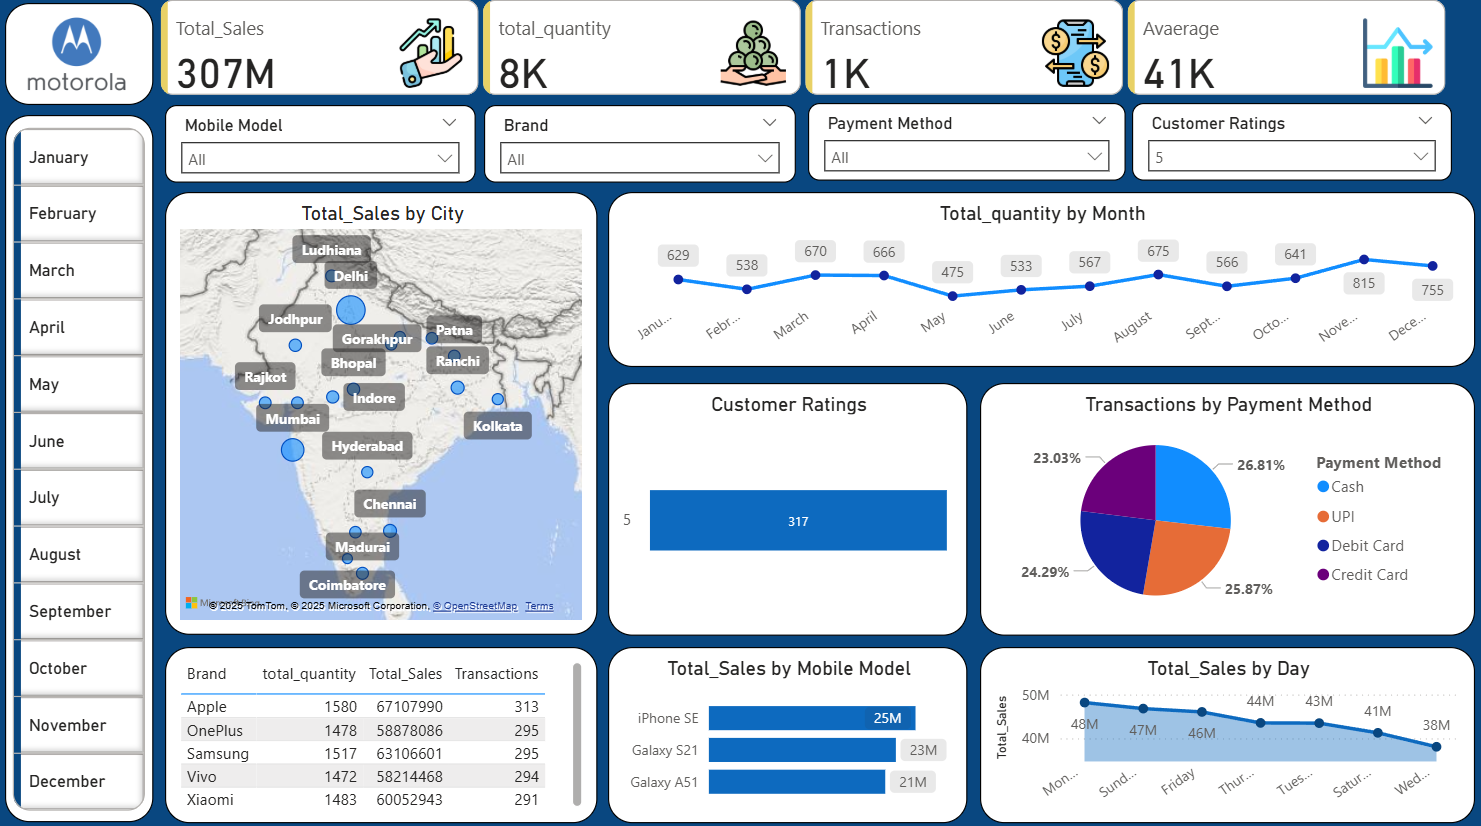

The dashboard page shown, as its layout file describes it:
{"tool":"powerbi","page":{"name":"Page 1","canvas":[1280,720],"ordinal":0},"visuals":[{"type":"shape","box":[4.9,7.8,128.4,154.7],"z":0},{"type":"image","box":[0,7.8,134.6,121.6],"z":1000},{"type":"shape","box":[4.9,171.2,128.4,542.7],"z":2000},{"type":"advancedSlicerVisual","fields":{"Values":["Sheet1.Date .Variation.Date Hierarchy.Month"]},"box":[6.8,179,124.5,535.9],"z":3000},{"type":"cardVisual","fields":{"Data":["Sales_data.Total_Sales","Sales_data.total_quantity","Sales_data.Transactions","Sales_data.Avaerage"]},"box":[134.2,0,1119.5,94.3],"z":4000},{"type":"map","fields":{"Category":["Sales_data.City"],"Size":["Sales_data.Total_Sales"]},"box":[143,171.2,373.5,382.2],"z":5000},{"type":"lineChart","title":"Total_quantity by Month","fields":{"Y":["Sales_data.total_quantity"],"Category":["Sales_data.Date .Variation.Date Hierarchy.Month","Sales_data.Date .Variation.Date Hierarchy.Day"]},"box":[525.2,171.2,748,150.8],"z":6000},{"type":"clusteredBarChart","fields":{"Category":["Sales_data.Mobile Model"],"Y":["Sales_data.Total_Sales"]},"box":[525.2,563.2,310.3,151.7],"z":7000},{"type":"pieChart","fields":{"Category":["Sales_data.Payment Method"],"Y":["Sales_data.Transactions"]},"box":[846.2,335.6,427,217.9],"z":7001},{"type":"funnel","title":"Customer Ratings","fields":{"Category":["Sales_data.Customer Ratings"],"Y":["CountNonNull(Sales_data.Customer Ratings)"]},"box":[525.2,335.6,310.3,217.9],"z":7002},{"type":"areaChart","title":"Total_Sales by Day","fields":{"Category":["Sales_data.Day Name.1"],"Y":["Sales_data.Total_Sales"]},"box":[846.2,563.2,427,151.7],"z":7003},{"type":"tableEx","fields":{"Values":["Sales_data.Brand","Sales_data.total_quantity","Sales_data.Total_Sales","Sales_data.Transactions"]},"box":[143,563.2,373.5,151.7],"z":7004},{"type":"slicer","fields":{"Values":["Sales_data.Mobile Model"]},"box":[143,95.3,268.4,67.1],"z":7005},{"type":"slicer","fields":{"Values":["Sales_data.Brand"]},"box":[418.2,95.3,269.4,67.1],"z":7006},{"type":"slicer","fields":{"Values":["Sales_data.Payment Method"]},"box":[697.4,94.3,274.3,67.1],"z":7007},{"type":"slicer","fields":{"Values":["Sales_data.Customer Ratings"]},"box":[977.5,94.3,276.2,67.1],"z":7008}]}

Visuals, with their boxes in screenshot pixels (x1, y1, x2, y2), scaled from the page's 1280x720 canvas onto the 1481x826 screenshot:
shape: x1=6 y1=9 x2=154 y2=186
image: x1=0 y1=9 x2=156 y2=148
shape: x1=6 y1=196 x2=154 y2=819
advancedSlicerVisual - Sheet1.Date .Variation.Date Hierarchy.Month: x1=8 y1=205 x2=152 y2=820
cardVisual - Sales_data.Total_Sales x Sales_data.total_quantity: x1=155 y1=0 x2=1451 y2=108
map - Sales_data.City x Sales_data.Total_Sales: x1=165 y1=196 x2=598 y2=635
"Total_quantity by Month" lineChart: x1=608 y1=196 x2=1473 y2=369
clusteredBarChart - Sales_data.Mobile Model x Sales_data.Total_Sales: x1=608 y1=646 x2=967 y2=820
pieChart - Sales_data.Payment Method x Sales_data.Transactions: x1=979 y1=385 x2=1473 y2=635
"Customer Ratings" funnel: x1=608 y1=385 x2=967 y2=635
"Total_Sales by Day" areaChart: x1=979 y1=646 x2=1473 y2=820
tableEx - Sales_data.Brand x Sales_data.total_quantity: x1=165 y1=646 x2=598 y2=820
slicer - Sales_data.Mobile Model: x1=165 y1=109 x2=476 y2=186
slicer - Sales_data.Brand: x1=484 y1=109 x2=796 y2=186
slicer - Sales_data.Payment Method: x1=807 y1=108 x2=1124 y2=185
slicer - Sales_data.Customer Ratings: x1=1131 y1=108 x2=1451 y2=185
